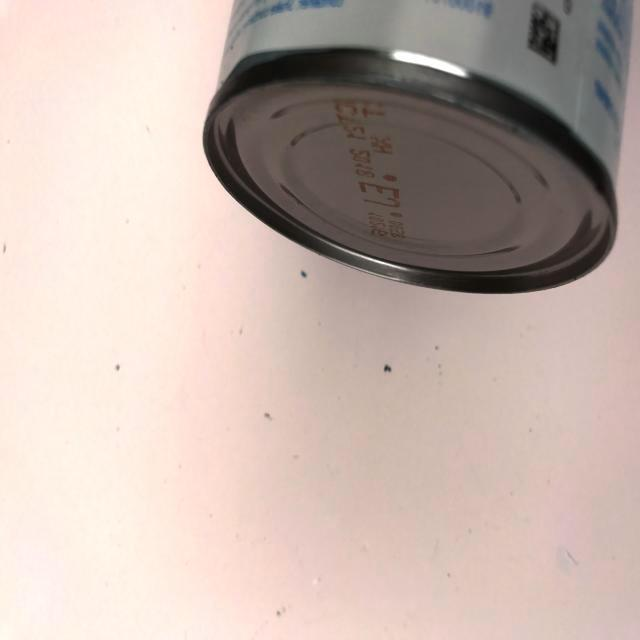metal: (197, 2, 640, 300)
